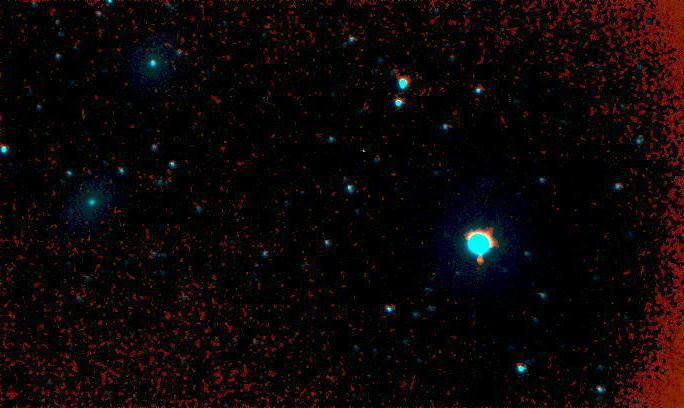star: (463, 243, 493, 273)
